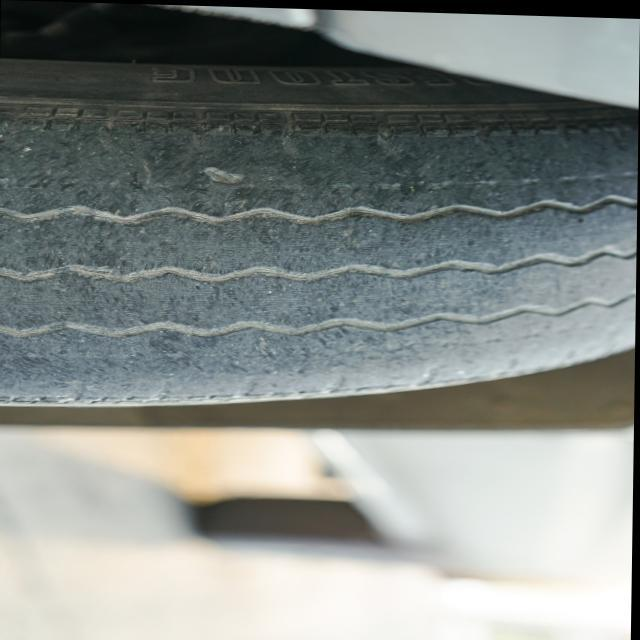Flat spots: (0, 58, 637, 407)
